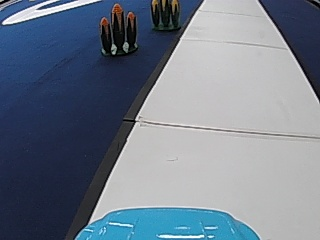corn: (97, 2, 140, 56), (149, 0, 180, 31)
